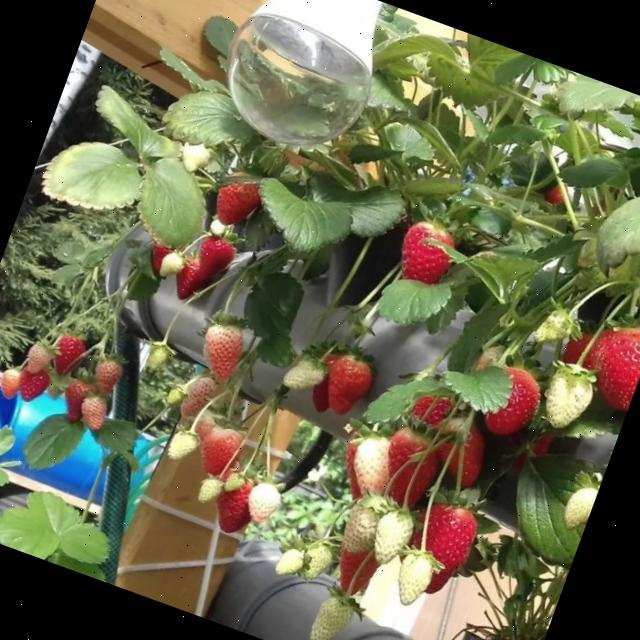Ripe Strawberry: (555, 304, 640, 413), (398, 498, 484, 603), (461, 356, 553, 446), (369, 423, 447, 514), (203, 463, 269, 540), (306, 350, 372, 425), (392, 219, 459, 290), (432, 422, 500, 491), (327, 538, 385, 602), (210, 172, 264, 234), (332, 437, 382, 500), (193, 426, 246, 482), (56, 374, 102, 429), (166, 254, 213, 306), (43, 331, 90, 382), (192, 232, 239, 282), (408, 388, 454, 432), (11, 362, 54, 407), (146, 238, 182, 276)
